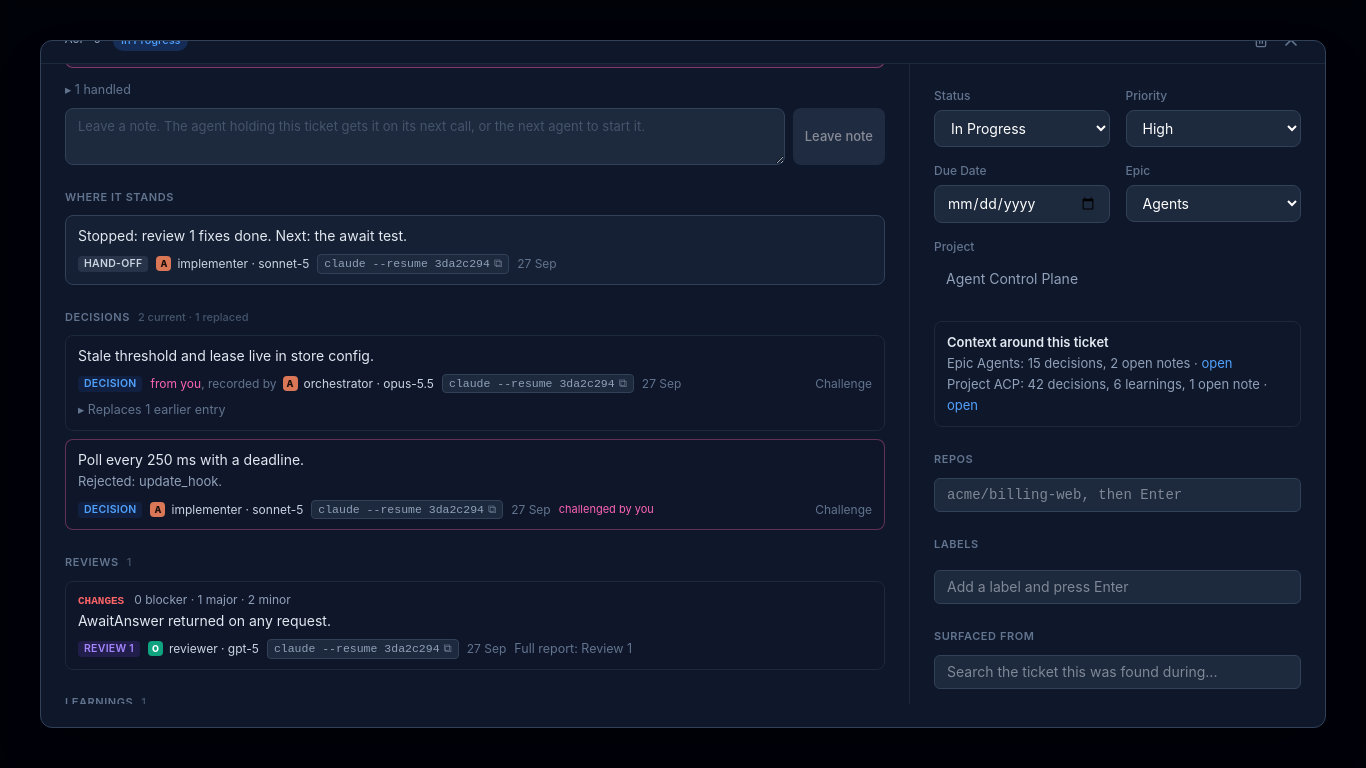
Test: the ticket page's entries › names each author: type, role, model and vendor, or You; the person's decisions say so
(page scrolled)
Expected: the picture named "Anthropic" is shown, [283,376,298,391]
Click the button with test id "session-chip" at x=538, y=384, box [442,374,634,393]
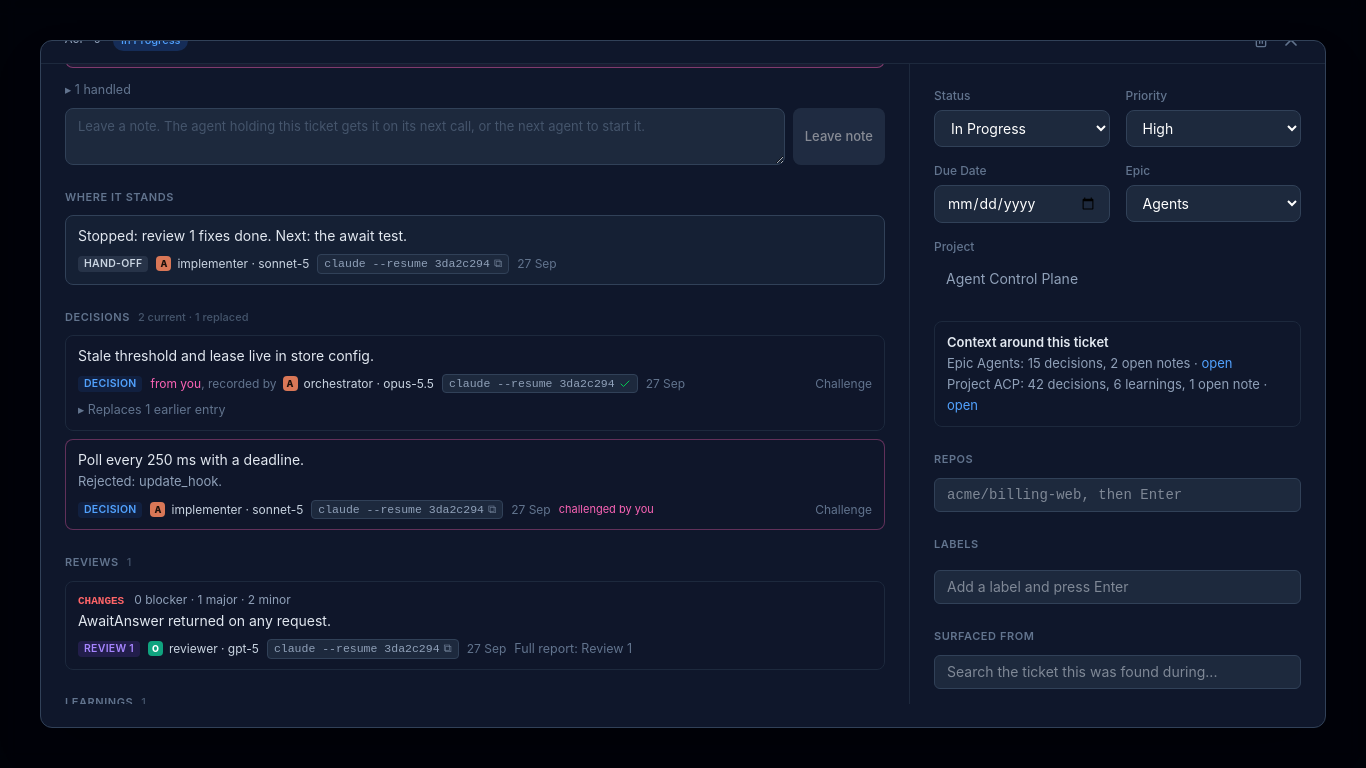
Expected: the text with test id "entry-type" reads "Review 1", [84,642,134,655]
Expected: the button with aria-label "Resume command copied" is shown, [442,374,638,393]
